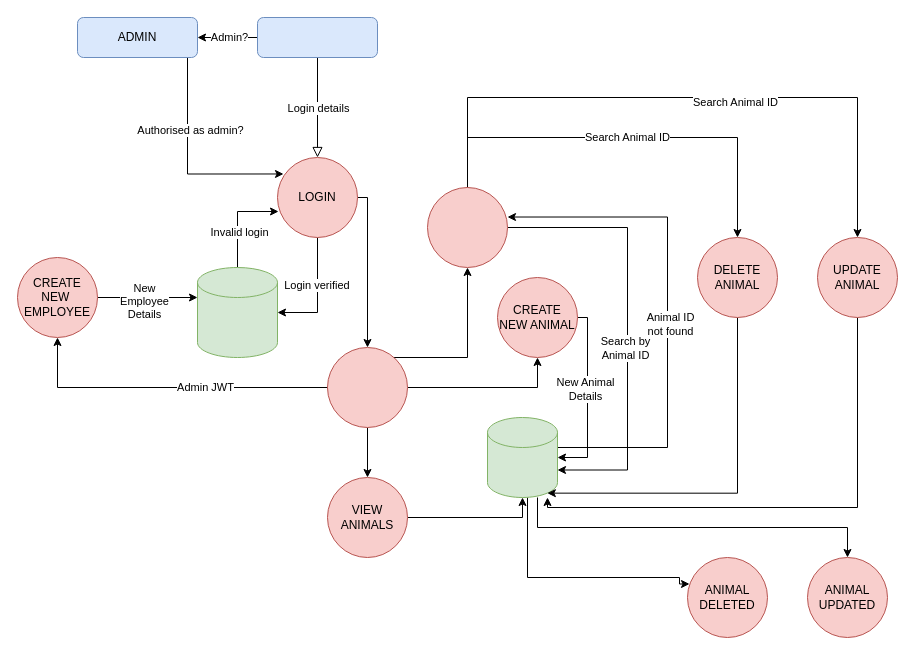
Image size: 915x655. Some labels were removed from this diagram. The centre of each missing label's shape, as x and y in pixels:
ANIMALS DATABASE: point (522, 457)
DASHBOARD: point (367, 387)
EMPLOYEE: point (317, 37)
EMPLOYEES DATABASE: point (237, 312)
VIEW INDIVIDUAL ANIMAL: point (467, 227)
